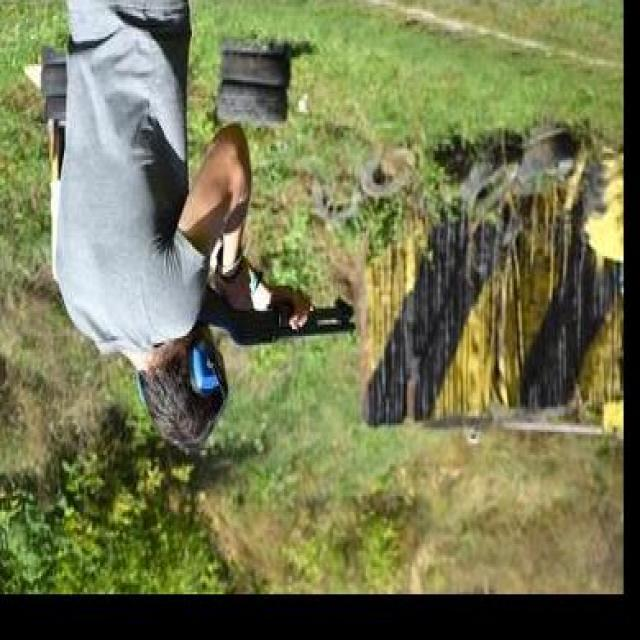weapon: (200, 286, 358, 350)
